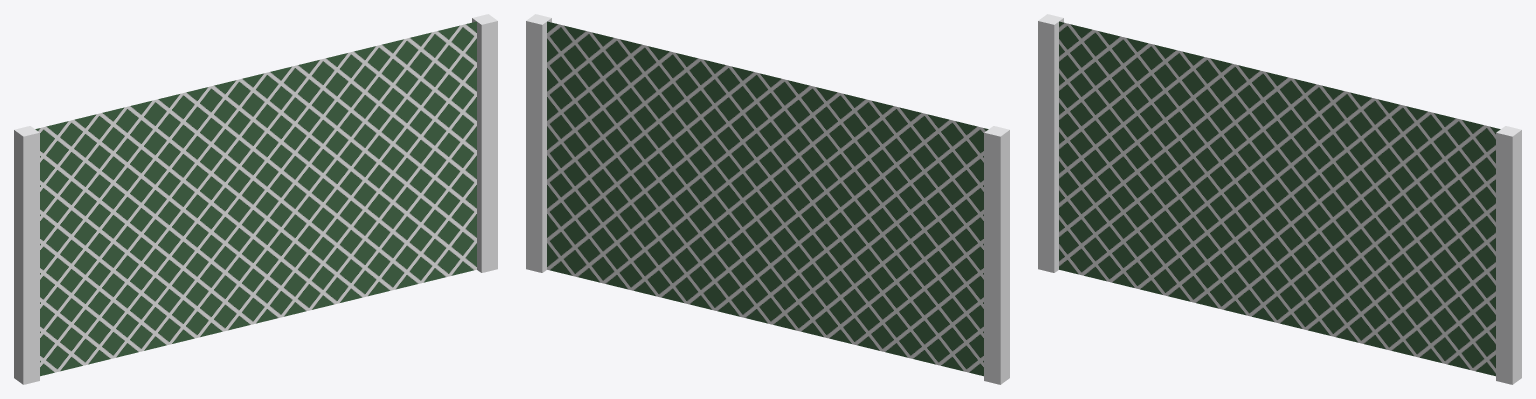
The model's file is fenceStraight.glb.
3 renders of one model, left to right at view 1: azimuth 30°, elevation 25°; view 2: azimuth 150°, elevation 25°; view 3: azimuth 330°, elevation 25°, orthographic.
Visible parts, largest first — view 1: fenceStraight; view 2: fenceStraight; view 3: fenceStraight.
Boxes of the visible parts, x1,y1,x2,y2 form: fenceStraight: (14,14,497,384); fenceStraight: (526,14,1009,384); fenceStraight: (1038,14,1521,384).
Bounding box in the file's own units: 1 × 0.5 × 0.0345.
2 materials, 1 textured.
